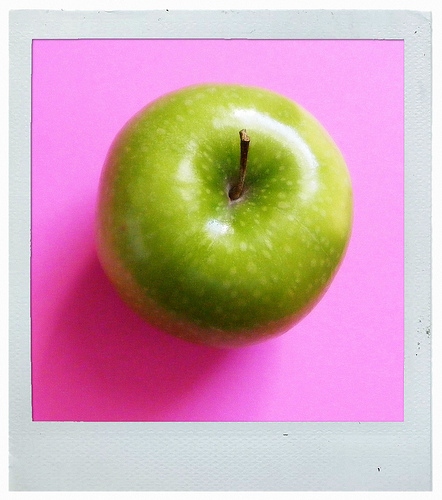apple: (93, 83, 361, 338)
